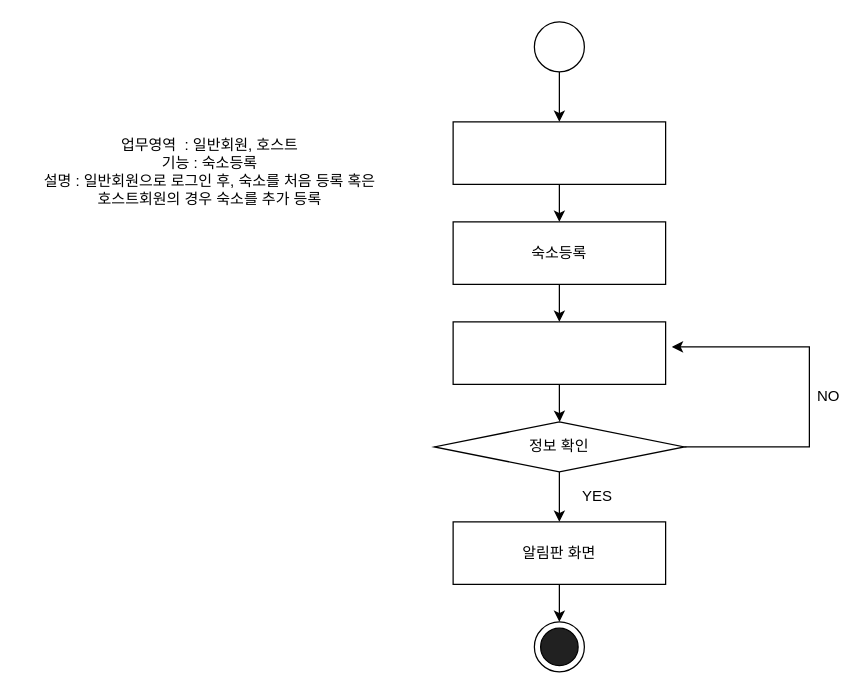
The diagram is 868 pixels wide and 694 high, and some of its shapes have lost their labels. Each missing label, with the centre of its shape:
"숙소 정보 입력" goes at pixel 559 352.
"호스트" goes at pixel 559 152.
